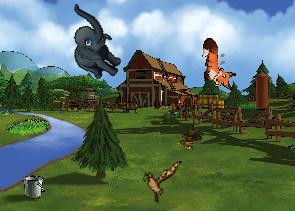eagle: (137, 153, 182, 206)
elephant: (49, 3, 137, 85)
fox: (201, 38, 236, 90)
